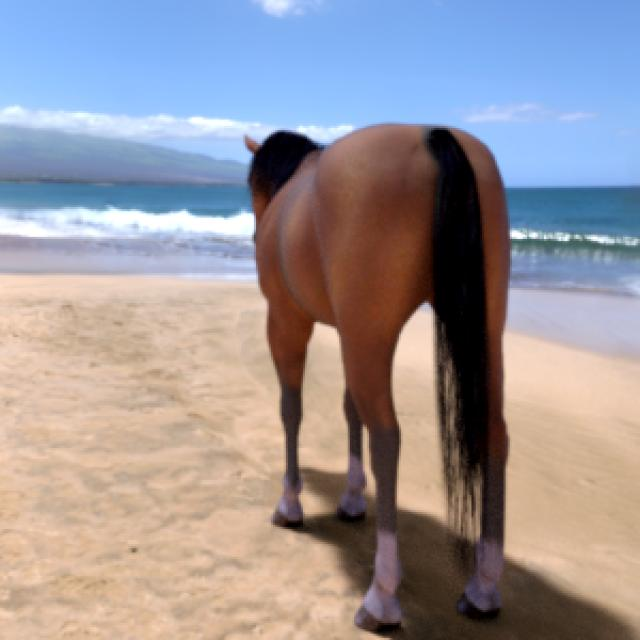horse: (246, 125, 510, 629)
